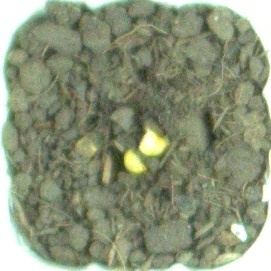pepper seed: (53, 49, 223, 206), (46, 61, 197, 237)
